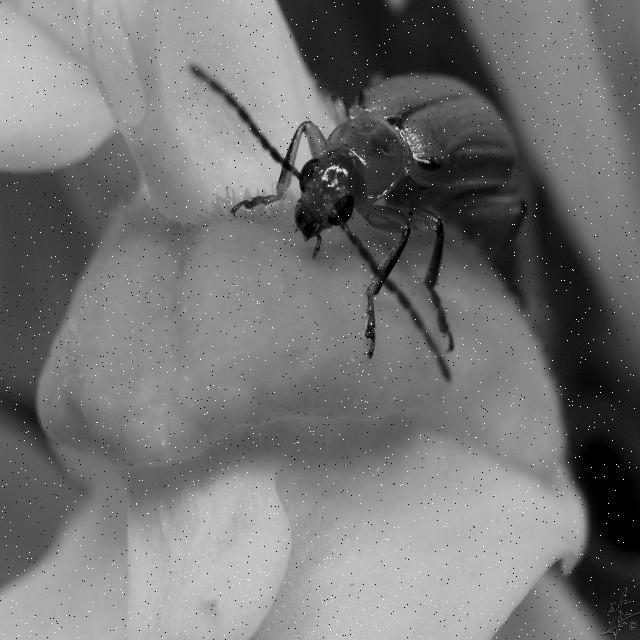gusano_gris: (193, 60, 530, 382)
